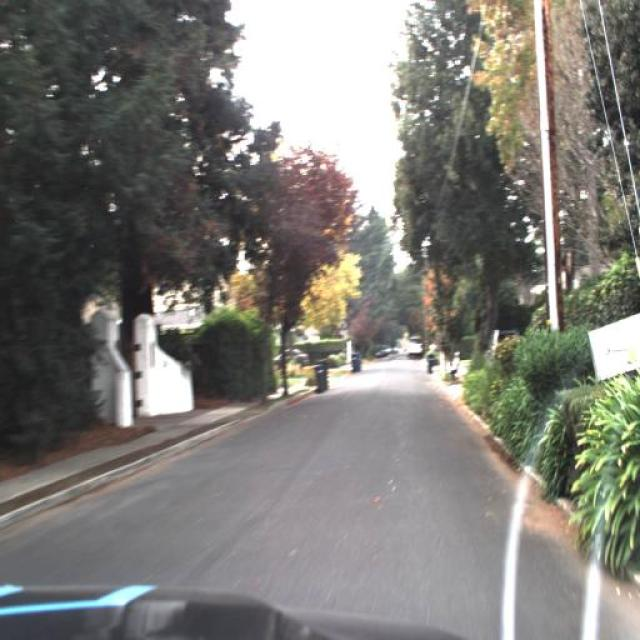car: (270, 349, 309, 370), (407, 337, 422, 358), (375, 344, 387, 360)
